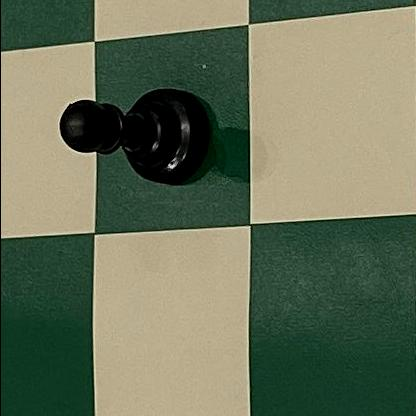black-pawn: (58, 83, 212, 187)
